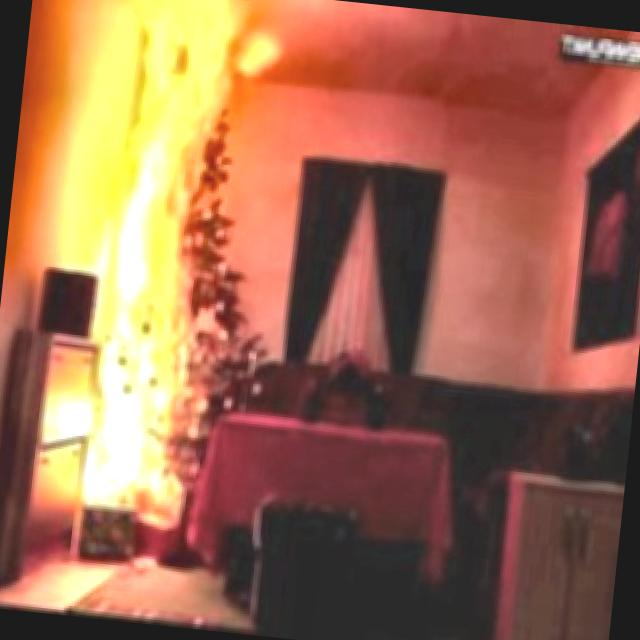fire: (0, 0, 311, 543)
